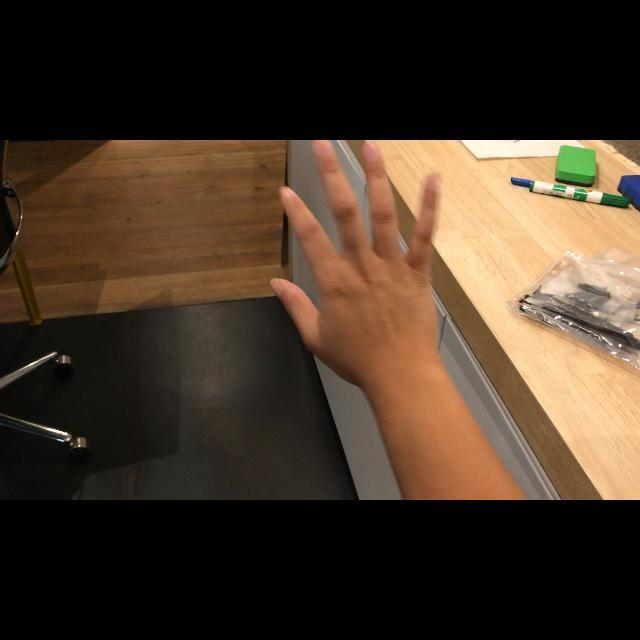bare_hand: (269, 141, 446, 362)
